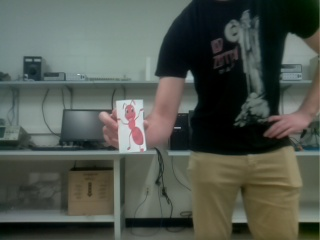Happy: (117, 99, 144, 152)
